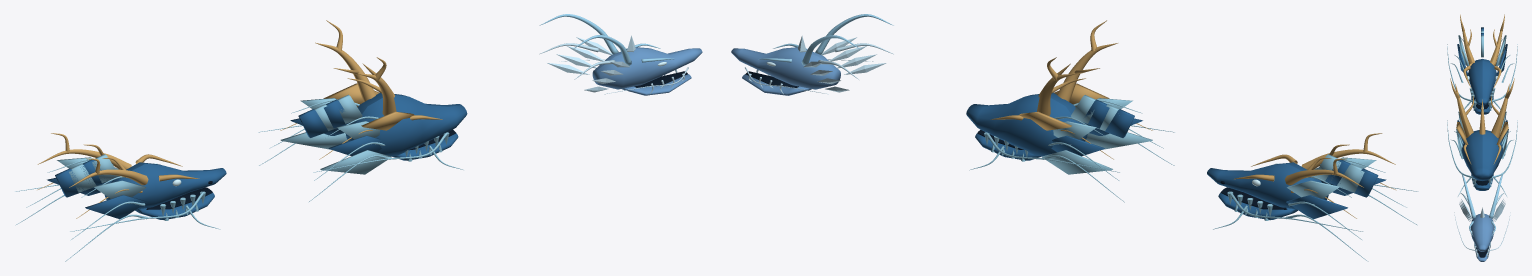
The model's file is dragon-head-variants.glb.
3 views of the same model, side by side, from view 1: azimuth 30°, elevation 25°; view 2: azimuth 150°, elevation 25°; view 3: azimuth 270°, elevation 25° (orthographic). The views are drawn at different scales.
Parts seen in each view (by area): view 1: sovereign shell, binding shell, sovereign light, lunar shell, binding light, sovereign gold, lunar light, binding gold, lunar gold, binding dark; view 2: sovereign shell, binding shell, sovereign light, lunar shell, binding light, sovereign gold, lunar light, binding gold, lunar gold, binding dark; view 3: sovereign shell, binding shell, sovereign gold, binding light, lunar shell, sovereign light, binding gold, lunar light, lunar gold, lunar dark, sovereign dark, binding dark.
Part boxes in pixels (x1,y1,x2,y2): sovereign shell: (290,92,467,160); binding shell: (47,159,226,219); sovereign light: (258,94,463,202); lunar shell: (592,47,702,95); binding light: (15,154,220,261); sovereign gold: (280,20,442,159); lunar light: (539,35,688,94); binding gold: (37,133,199,218); lunar gold: (539,14,674,65); binding dark: (146,181,212,209); sovereign shell: (966,92,1142,160); binding shell: (1207,160,1386,220); sovereign light: (969,95,1174,202); lunar shell: (731,47,840,95); binding light: (1213,154,1418,261); sovereign gold: (991,20,1152,159); lunar light: (745,35,893,94); binding gold: (1234,133,1396,218); lunar gold: (759,14,893,65); binding dark: (1220,181,1287,209); sovereign shell: (1457,103,1507,190); binding shell: (1457,27,1507,114); sovereign gold: (1450,78,1514,164); binding light: (1447,30,1517,119); lunar shell: (1470,214,1494,261); sovereign light: (1447,106,1517,196); binding gold: (1460,14,1504,88); lunar light: (1454,193,1510,257); lunar gold: (1461,173,1503,236); lunar dark: (1476,247,1488,257); sovereign dark: (1476,180,1488,185); binding dark: (1474,97,1490,109).
Size of the model in its own units: 6.51 by 1.32 by 0.9429.
